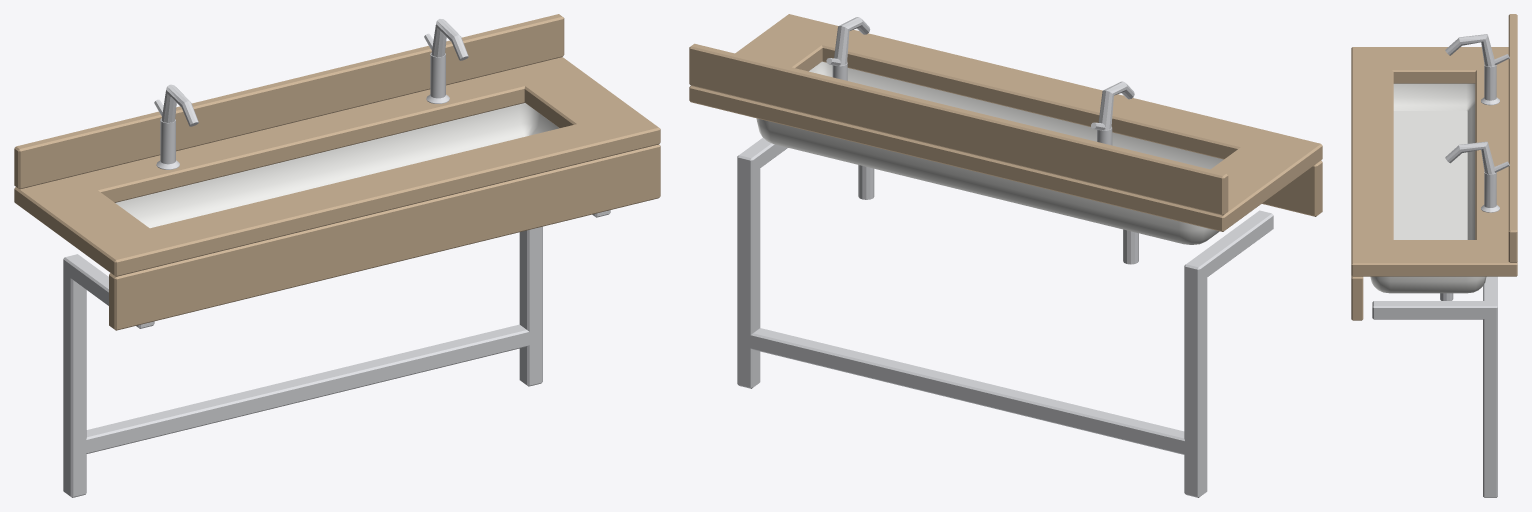
File: office-lobby-and-facilities-vanity-trough-two-basin-f135e6ef__26180.glb
The picture shows the model from 3 angles, left to right: view 1: azimuth 30°, elevation 25°; view 2: azimuth 150°, elevation 25°; view 3: azimuth 270°, elevation 25°; orthographic projection. The views are drawn at different scales.
Parts seen in each view (by area): view 1: vanity-trough-two-basin; view 2: vanity-trough-two-basin; view 3: vanity-trough-two-basin.
Part boxes in pixels (box(x1,y1,x2,y2)): vanity-trough-two-basin: box(14, 14, 660, 497); vanity-trough-two-basin: box(689, 14, 1322, 497); vanity-trough-two-basin: box(1351, 14, 1517, 497).
Size of the model in its own units: 1.7 by 1.15 by 0.55.
